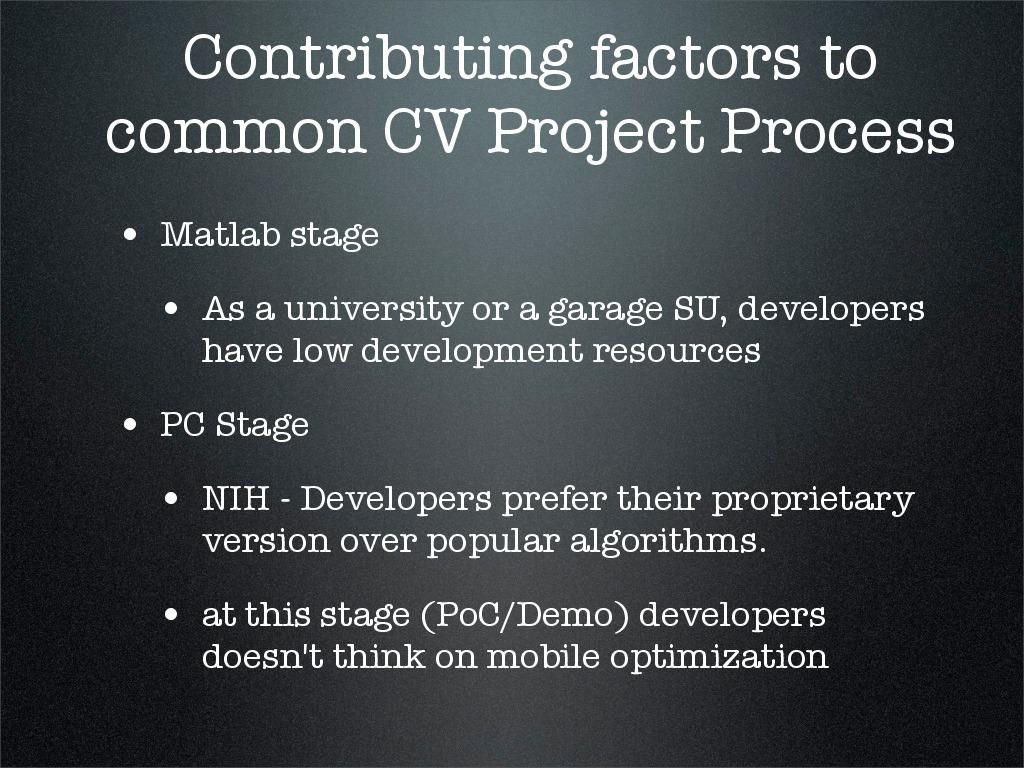paragraph: (103, 196, 978, 702)
title: (90, 17, 986, 173)
